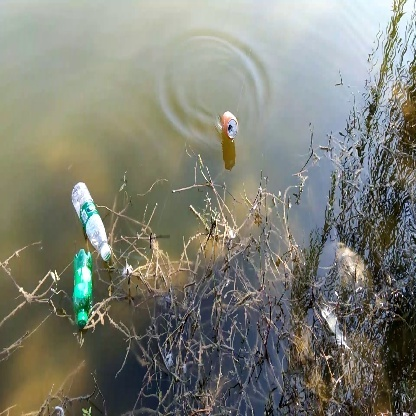bottle: (70, 179, 115, 260), (68, 248, 98, 328), (216, 105, 243, 141)
